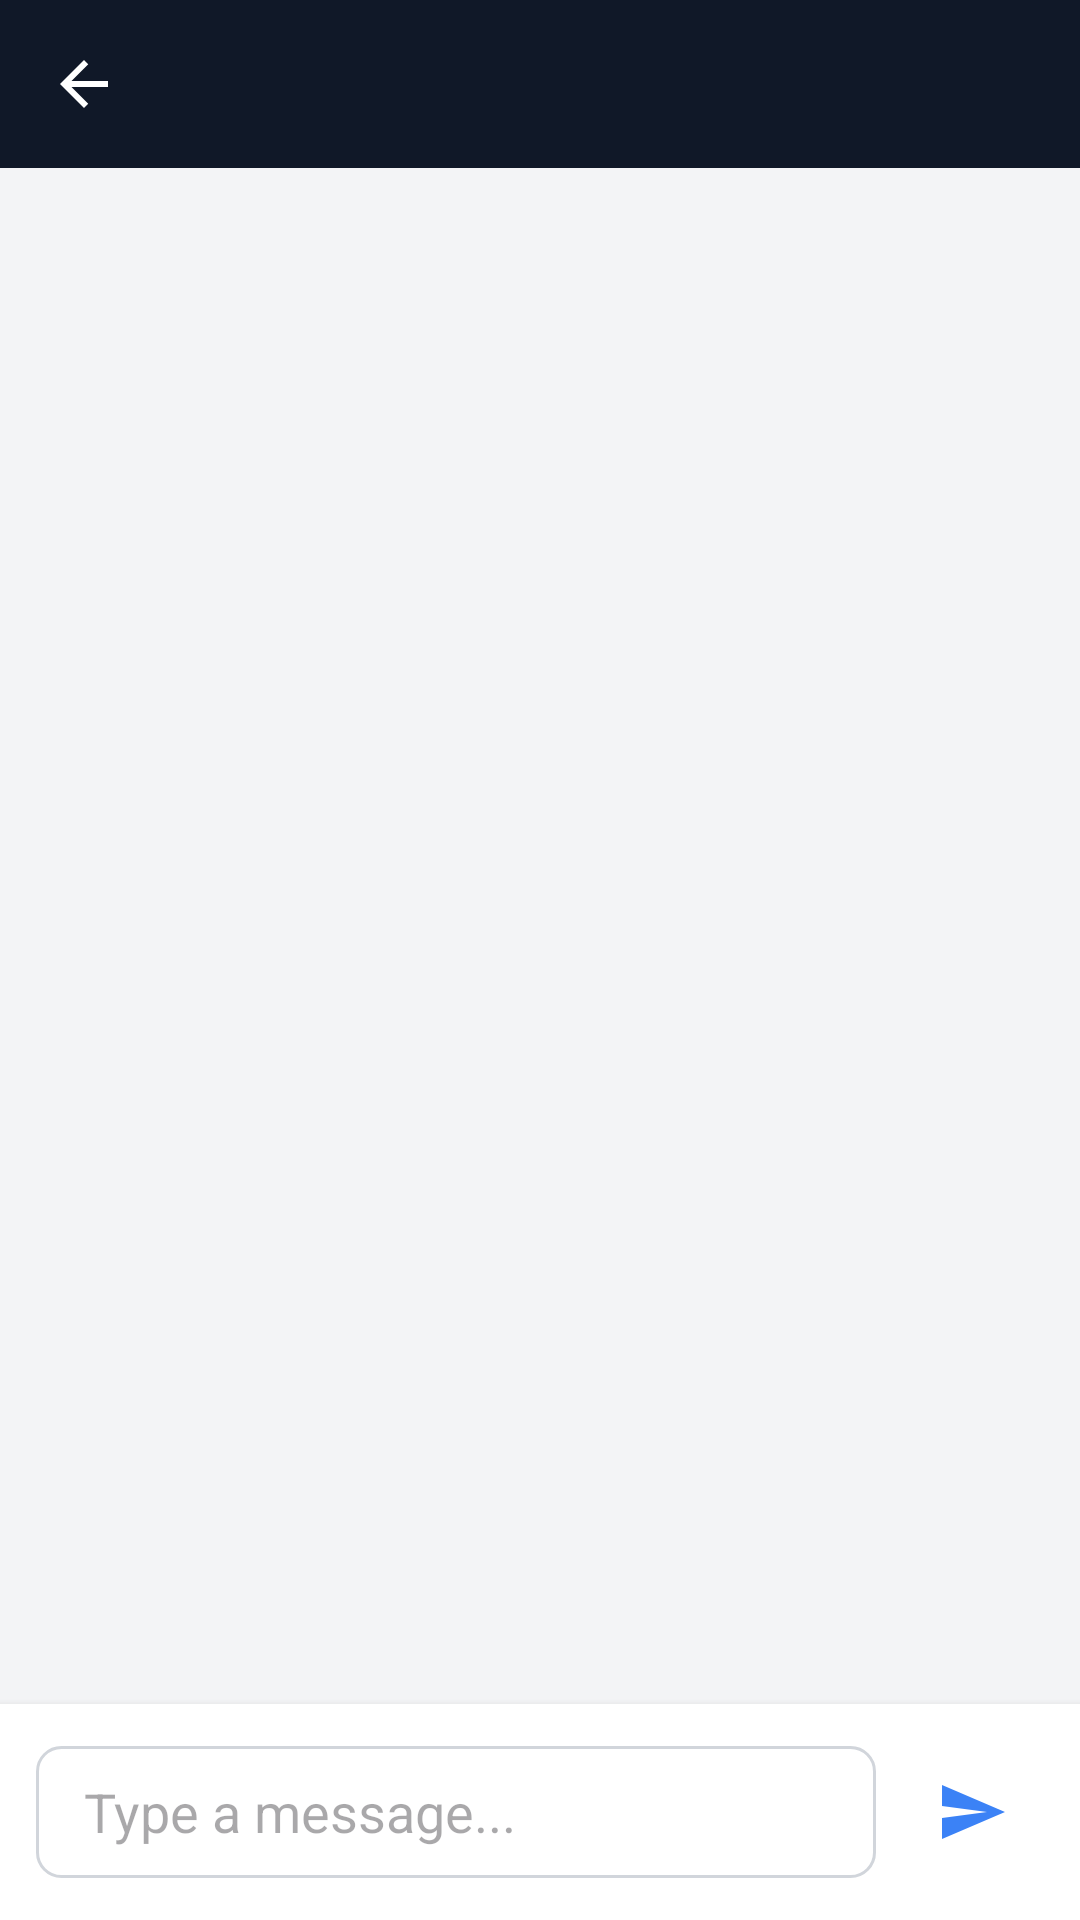

Named icons in this screenshot (1080px x 1920px) and their centers, point (x, y):
Back: point (84, 84)
Send: point (973, 1812)
